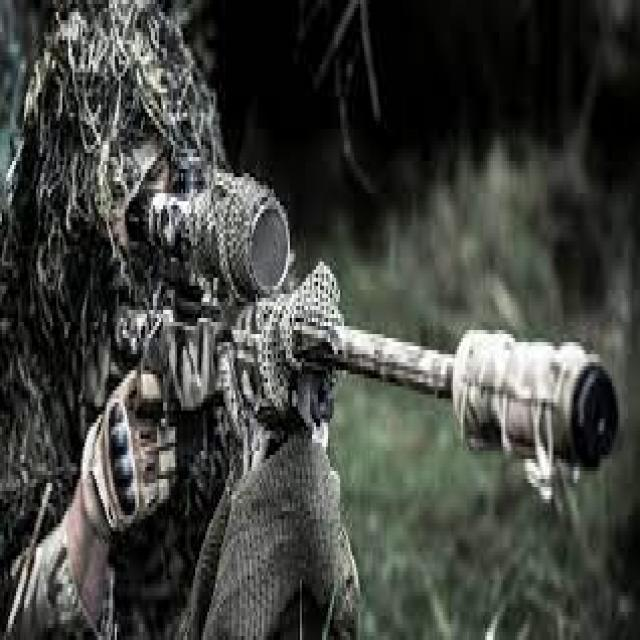rifle: (101, 145, 632, 468)
